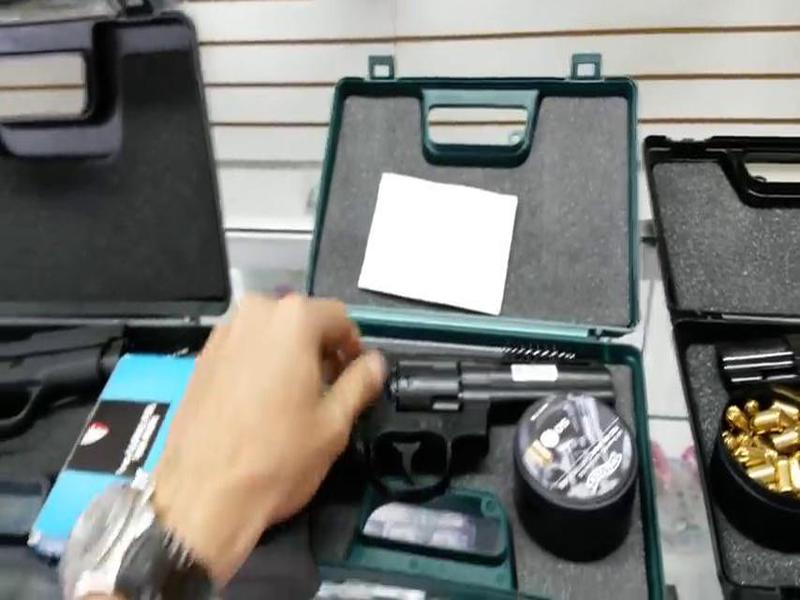Revolver: (242, 333, 651, 576)
